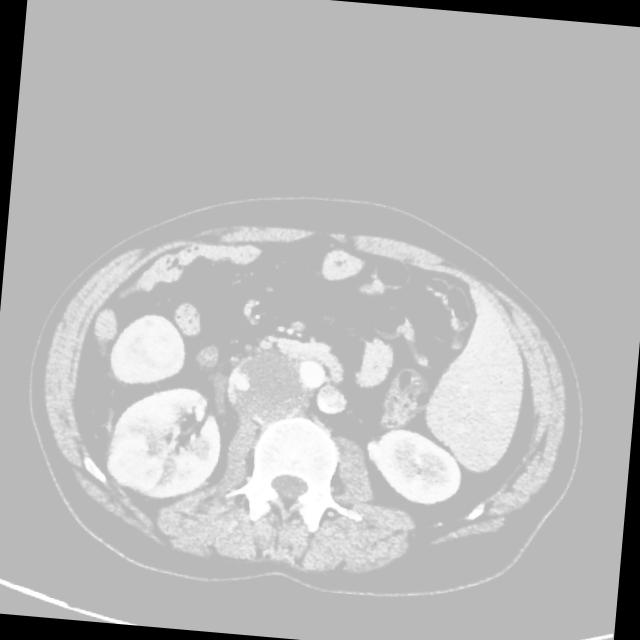TUMOR: (90, 228, 572, 481)
